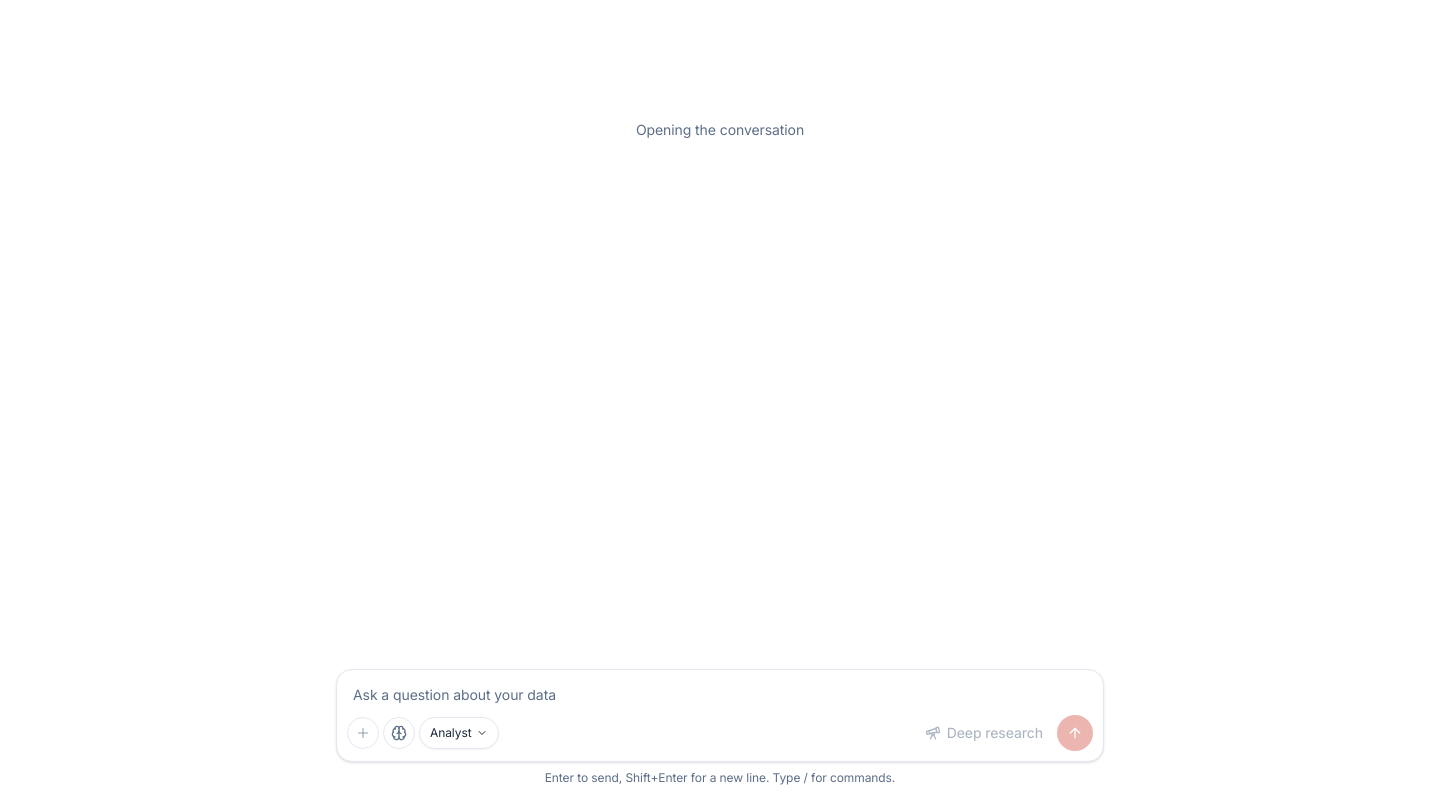
automatic chat routing › retains a typed prompt until the selected conversation has loaded
In the text box named "Message Nova": (720, 692) [337,670,1103,715], type "Create a city revenue report filtered to Jakarta"
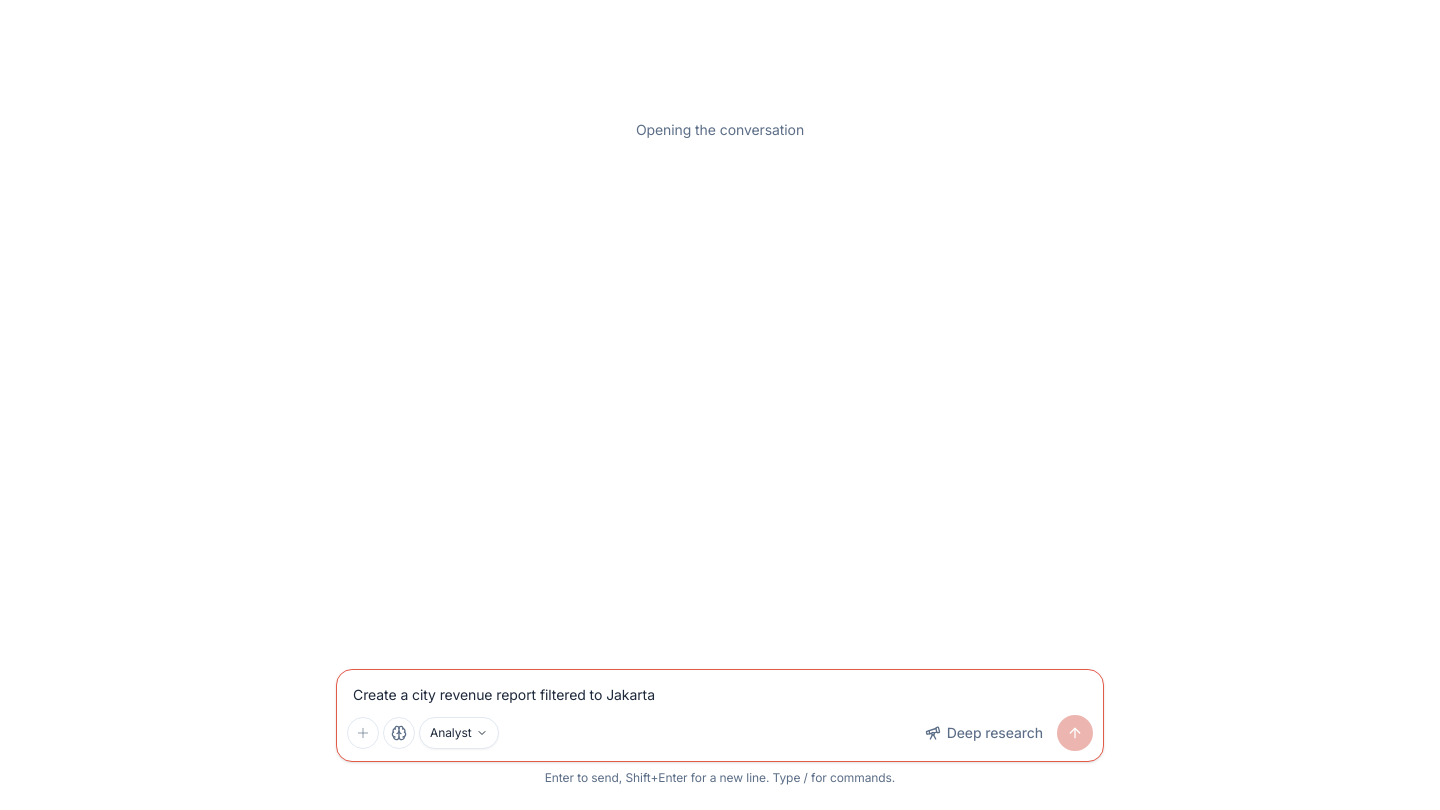
Expected: the button named "Send" is disabled, [1057,715,1093,751]
Press Enter
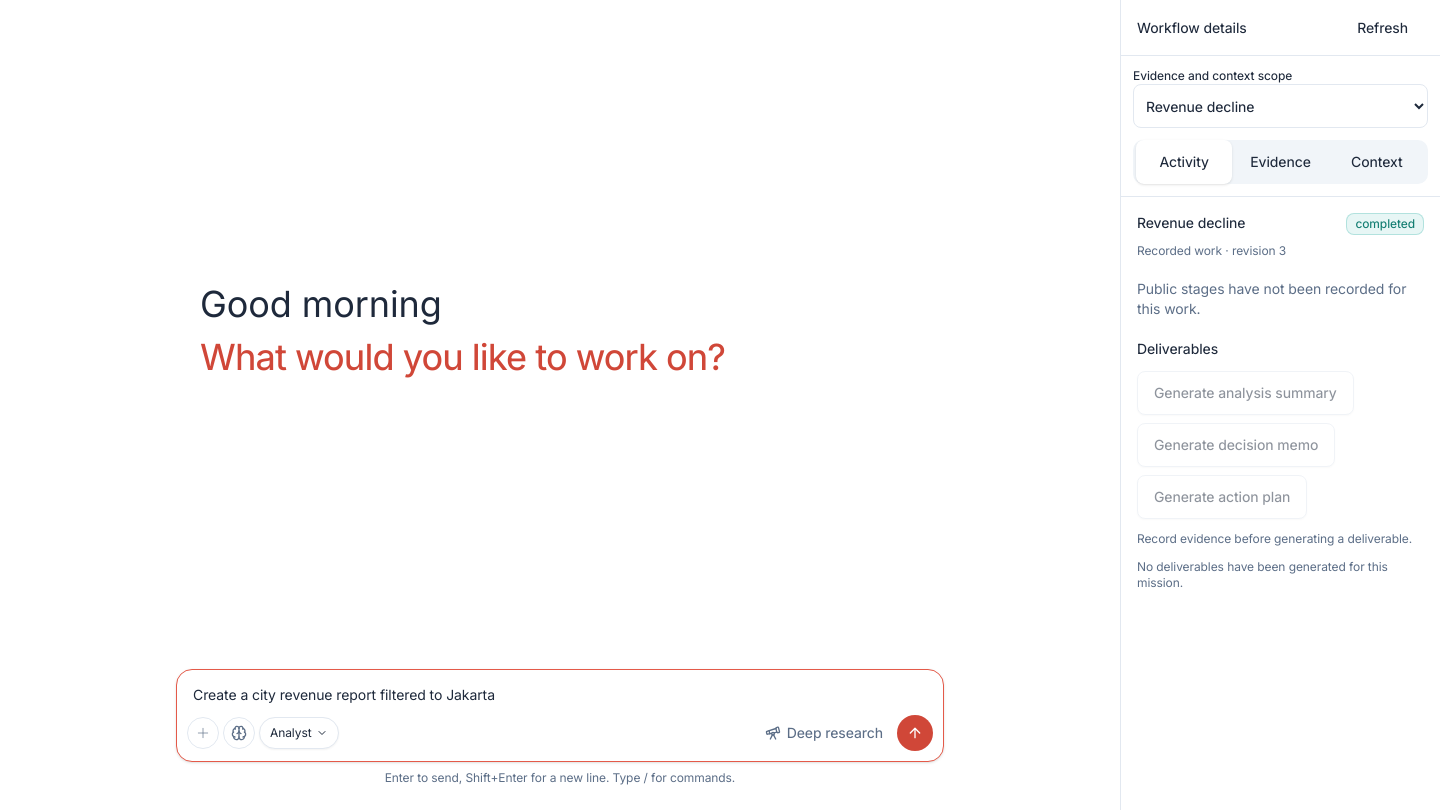
Expected: the button named "Send" is enabled
Click the button named "Send": (915, 733) [897,715,933,751]
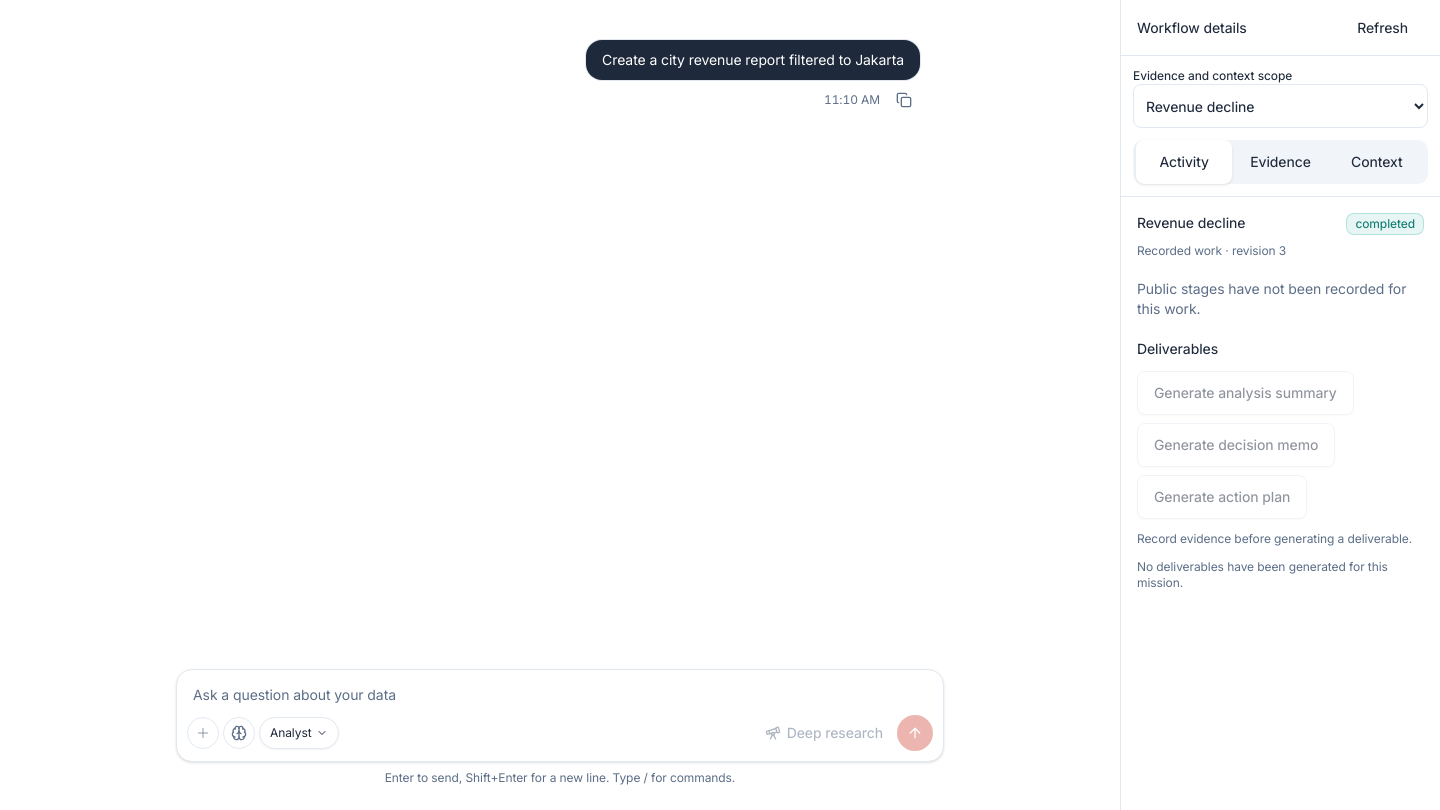
Expected: the text "Create a city revenue report filtered to Jakarta" is shown, [602,50,904,70]
